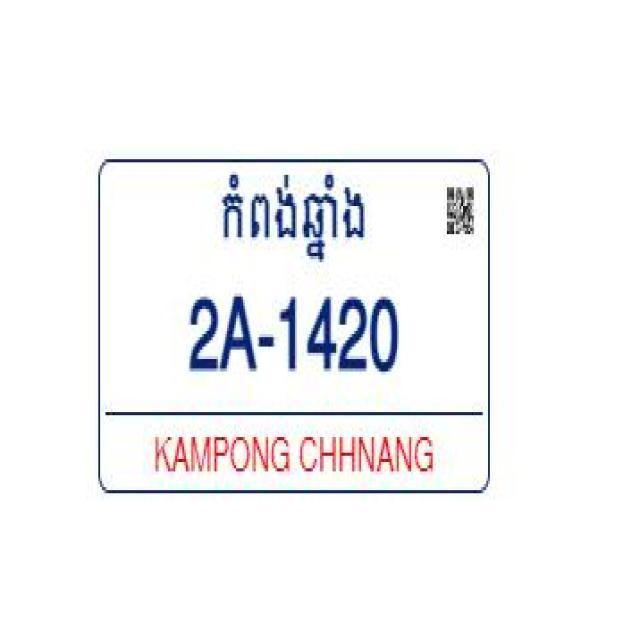Kampong_Chhnang: (222, 169, 372, 274)
